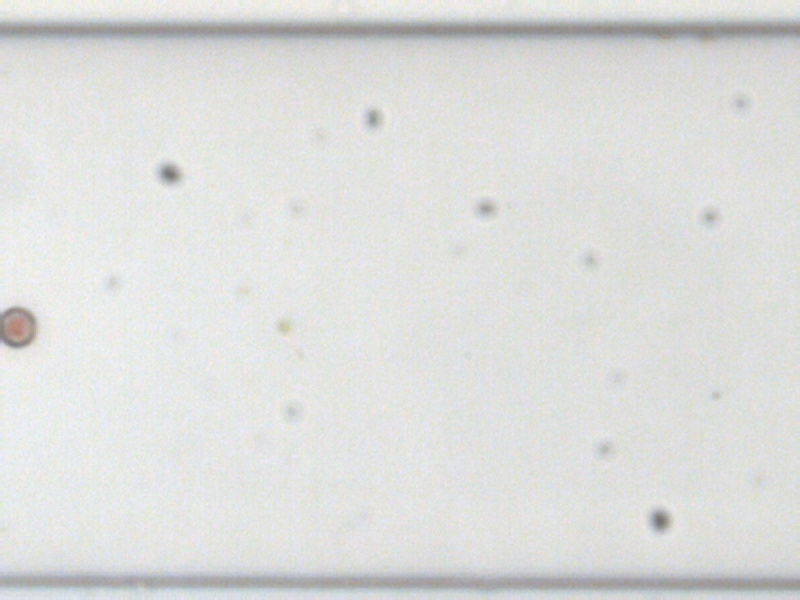Chlorella: (274, 315, 293, 333)
Porphyridium: (0, 302, 36, 348)
